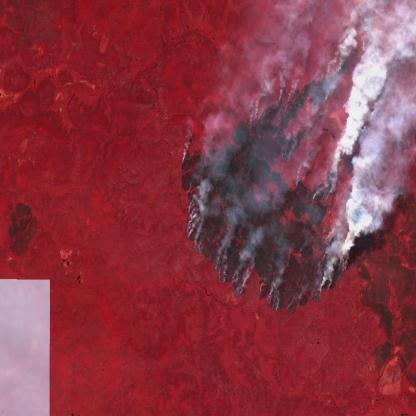fire: (178, 40, 362, 317)
